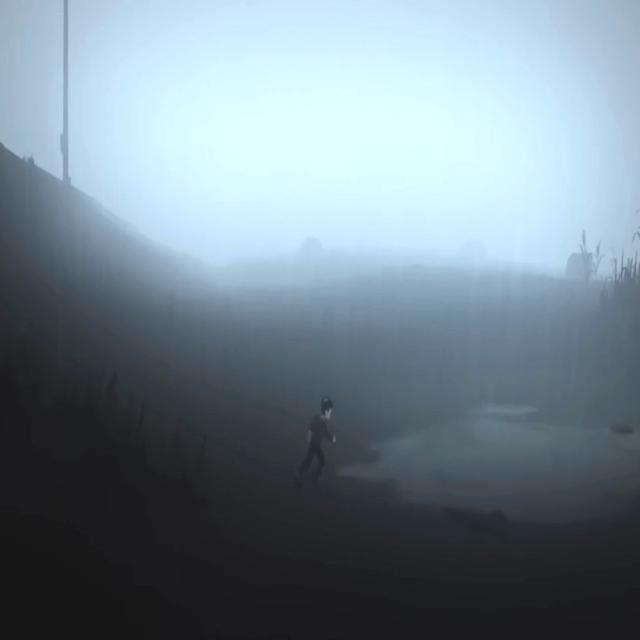boy: (300, 396, 336, 478)
